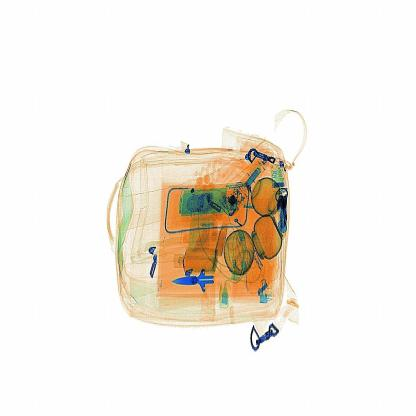gun: (172, 260, 233, 312)
